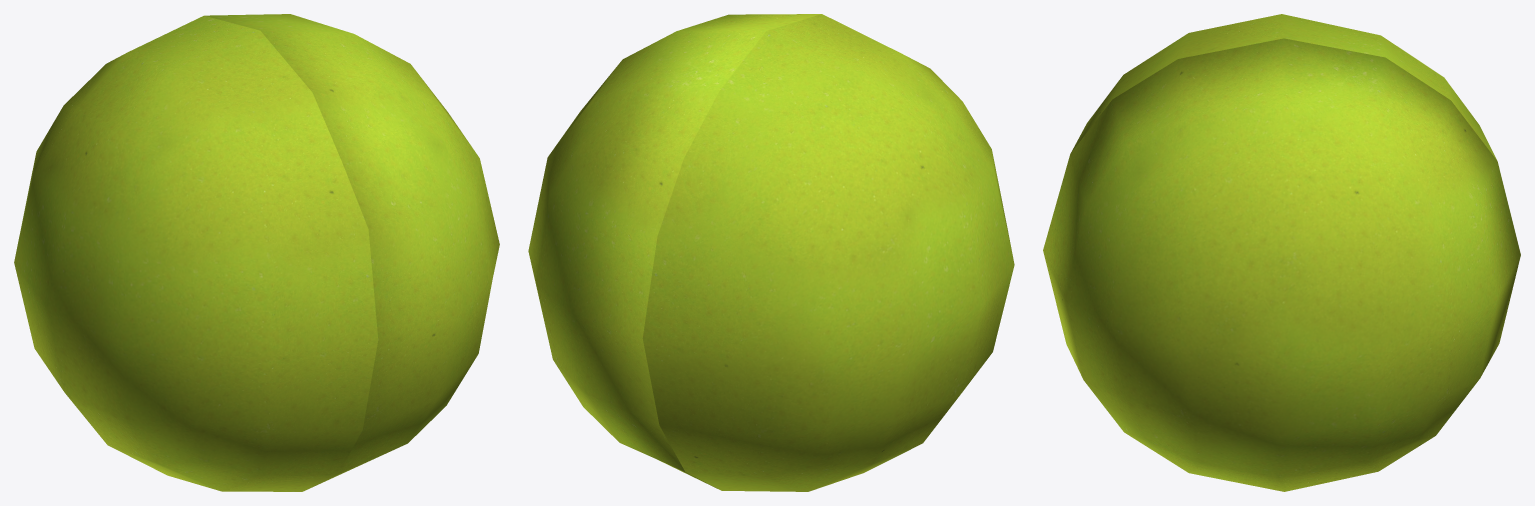
The model's file is Pomelo.fbx.
3 renders of one model, left to right at view 1: azimuth 30°, elevation 25°; view 2: azimuth 150°, elevation 25°; view 3: azimuth 270°, elevation 25°, orthographic. The views are drawn at different scales.
Parts seen in each view (by area): view 1: Pomelo_part, Pomelo_part2; view 2: Pomelo_part, Pomelo_part2; view 3: Pomelo_part2, Pomelo_part.
Boxes of the visible parts, <box> form: Pomelo_part: <box>14,15,378,491</box>; Pomelo_part2: <box>205,14,499,489</box>; Pomelo_part: <box>642,14,1014,491</box>; Pomelo_part2: <box>528,14,821,488</box>; Pomelo_part2: <box>1043,38,1520,491</box>; Pomelo_part: <box>1070,14,1496,159</box>.
Bounding box in the file's own units: 23.92 × 23.91 × 23.91.
